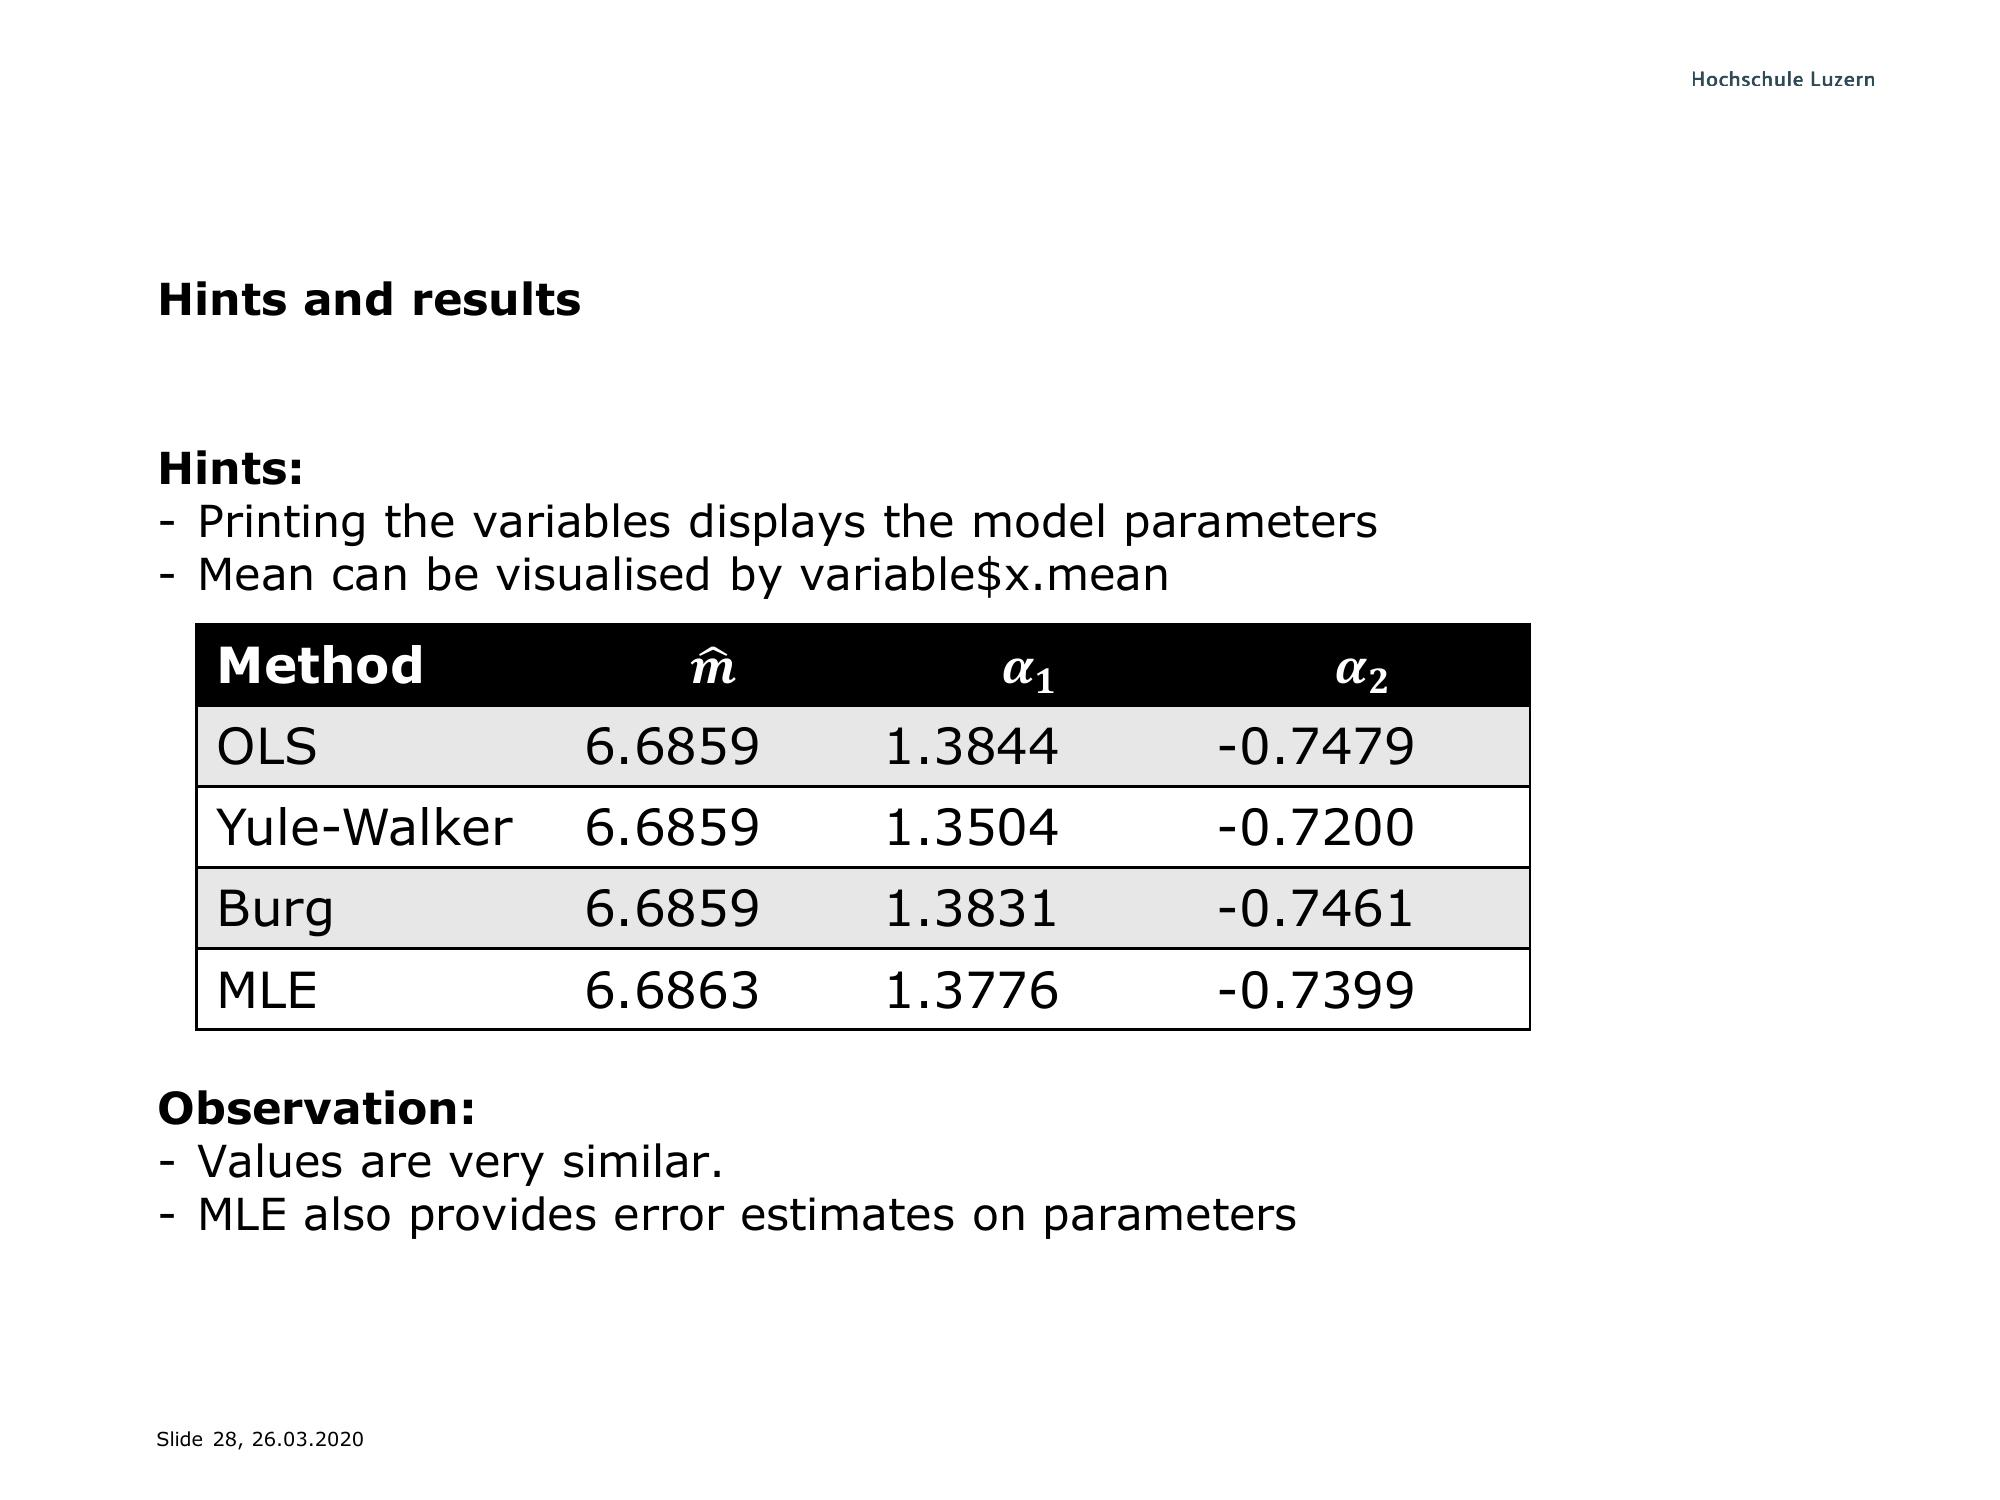Title: (146, 276, 602, 328)
